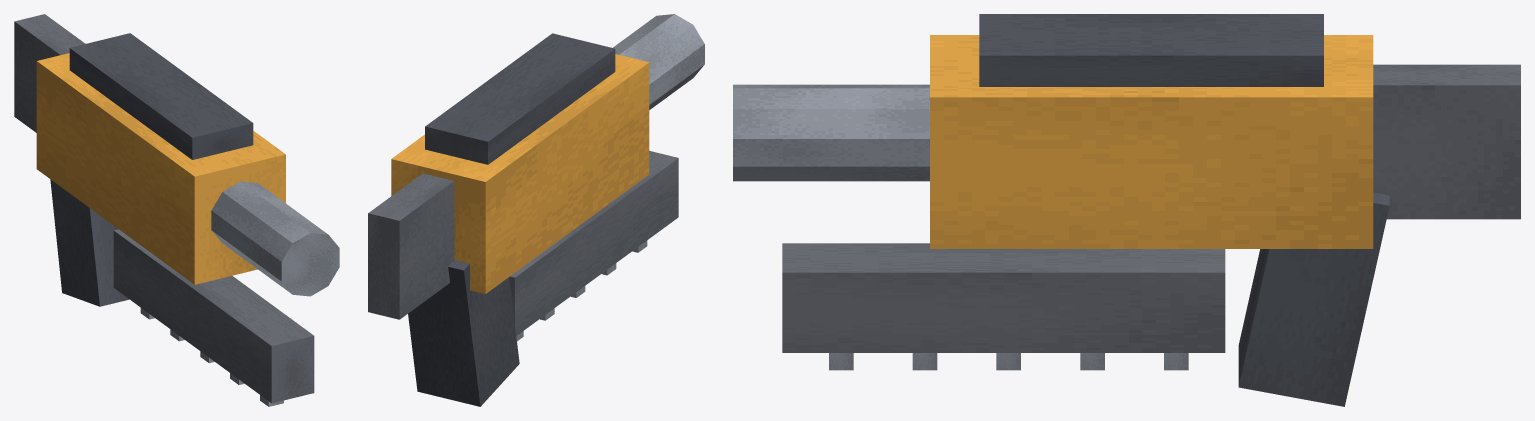
Rendered from weapon_nailgun.glb.
The picture shows the model from 3 angles, left to right: view 1: azimuth 30°, elevation 25°; view 2: azimuth 150°, elevation 25°; view 3: azimuth 270°, elevation 25°; orthographic projection. The views are drawn at different scales.
Parts seen in each view (by area): view 1: weapon_nailgun; view 2: weapon_nailgun; view 3: weapon_nailgun.
Part boxes in pixels (left/top/right/bottom): weapon_nailgun: left=14, top=14, right=339, bottom=406; weapon_nailgun: left=368, top=14, right=704, bottom=406; weapon_nailgun: left=733, top=14, right=1520, bottom=406.
Bounding box in the file's own units: 0.3 × 0.7873 × 1.6.
1 material, 1 textured.
